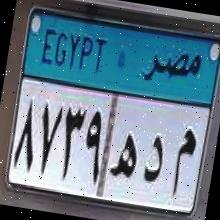3: (56, 105, 88, 180)
7: (32, 100, 66, 178)
8: (10, 96, 41, 175)
9: (80, 107, 108, 184)
daal: (140, 126, 170, 186)
haa: (107, 122, 144, 186)
meem: (164, 120, 201, 201)
